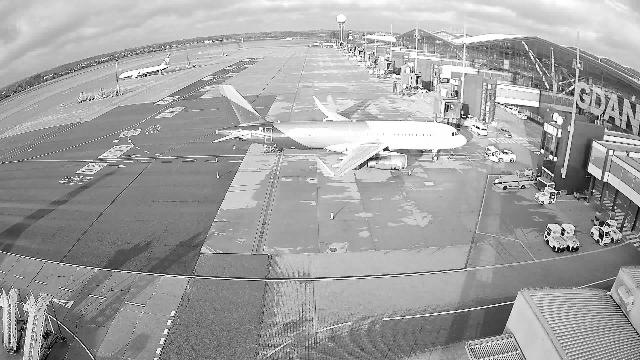Aircraft: (212, 84, 467, 176), (118, 53, 171, 79)
Airport_Tractor: (543, 224, 568, 253), (560, 224, 580, 252), (590, 226, 612, 246), (534, 186, 557, 205), (603, 220, 622, 243)
Baggage_Trolley: (536, 176, 555, 192), (574, 188, 588, 200)
Conveyor_Belt: (493, 170, 535, 190), (454, 117, 488, 127)
Pushback_Tug: (485, 146, 516, 163)
